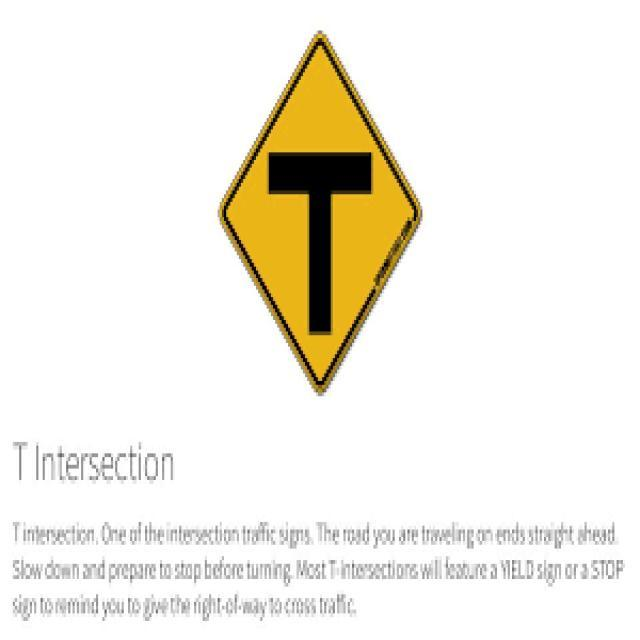t intersection: (213, 25, 425, 400)
